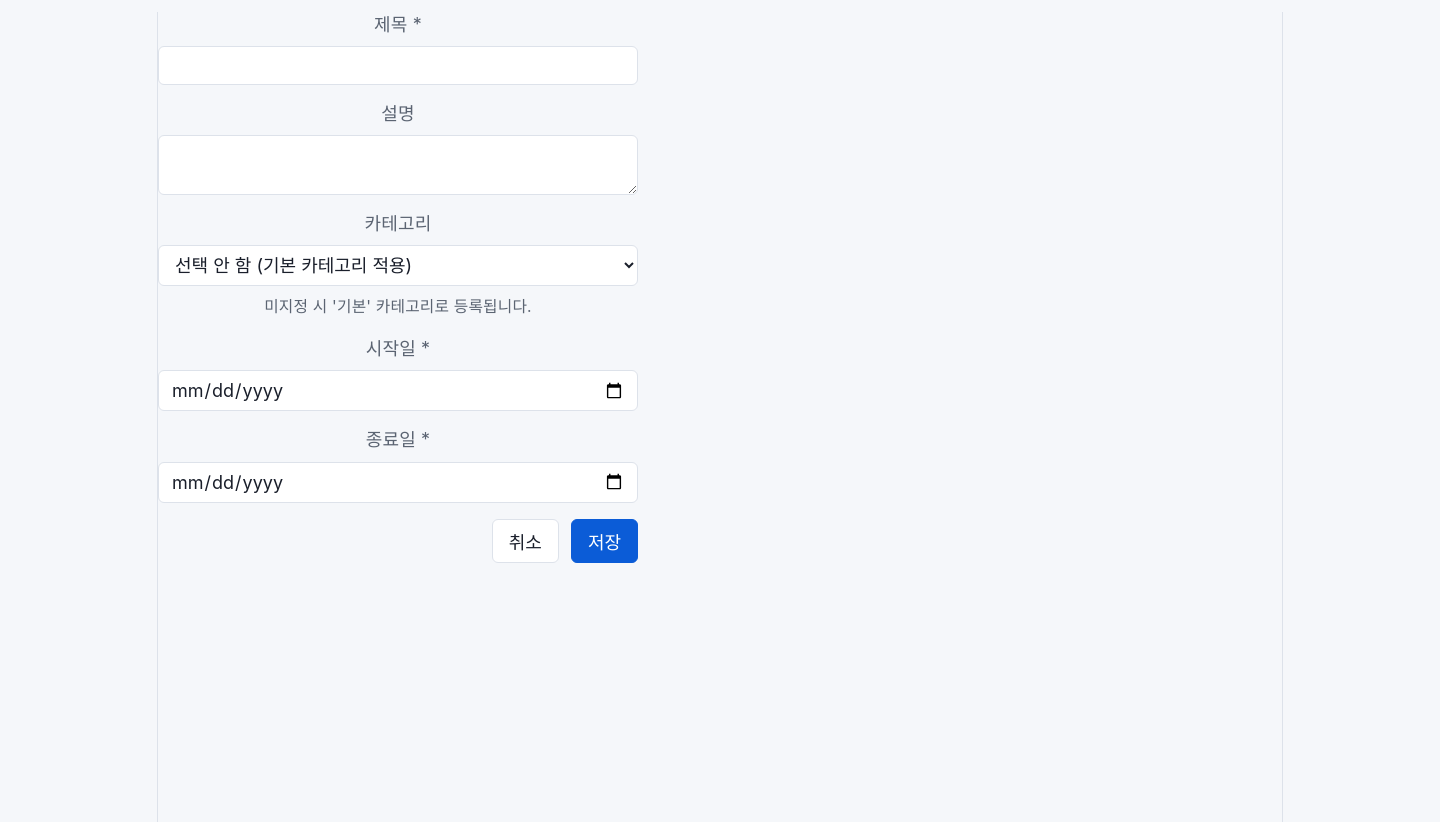
Test: TodoForm › mutation이 실패하면 에러 메시지가 화면에 표시된다
Step 1. Type "새 할일" into the field labelled "제목 *" → (398, 66), box [158,46,638,85]
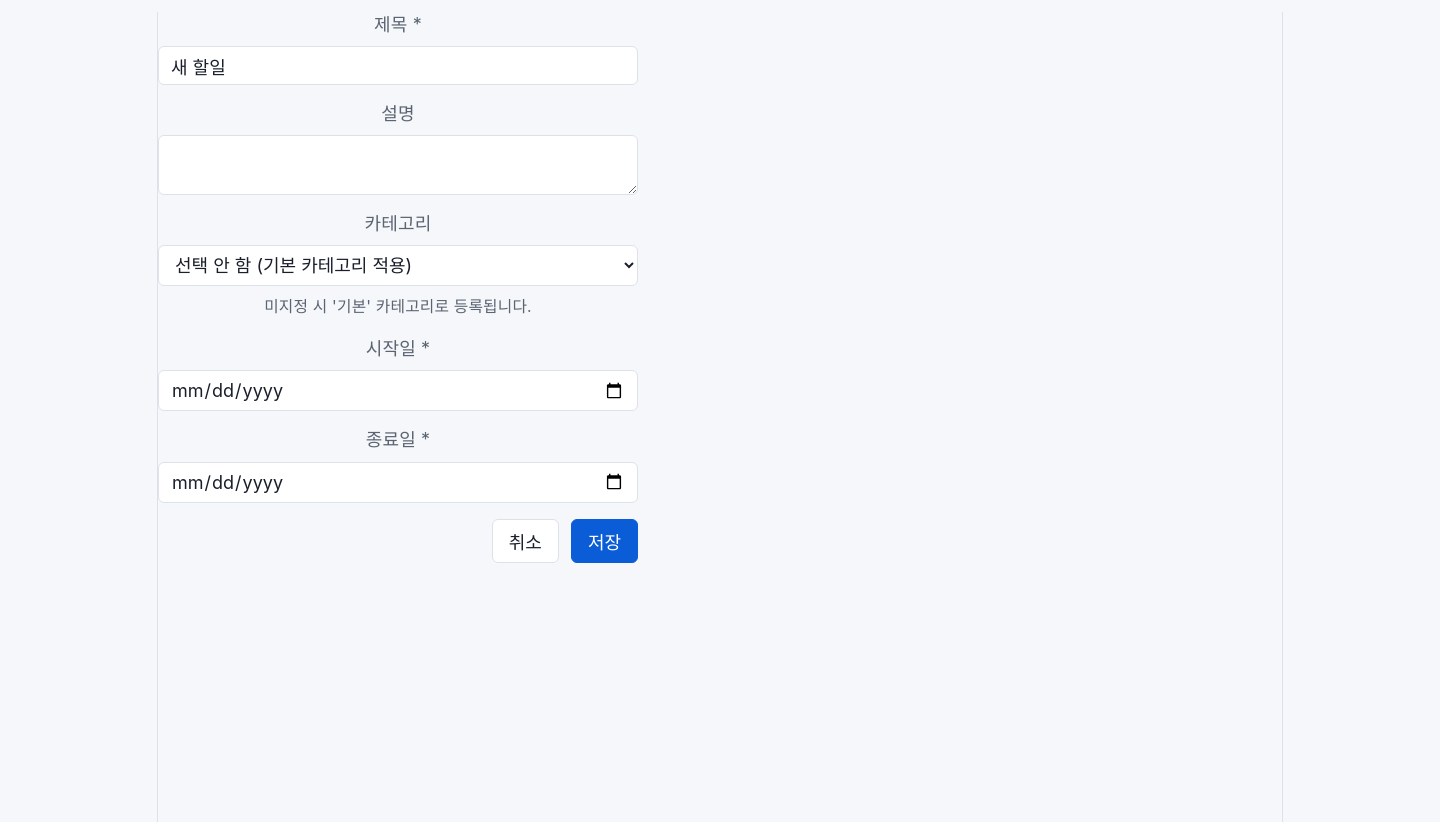
Step 2. Type "2026-08-27" into the date field labelled "시작일 *" → (398, 391), box [158,370,638,412]
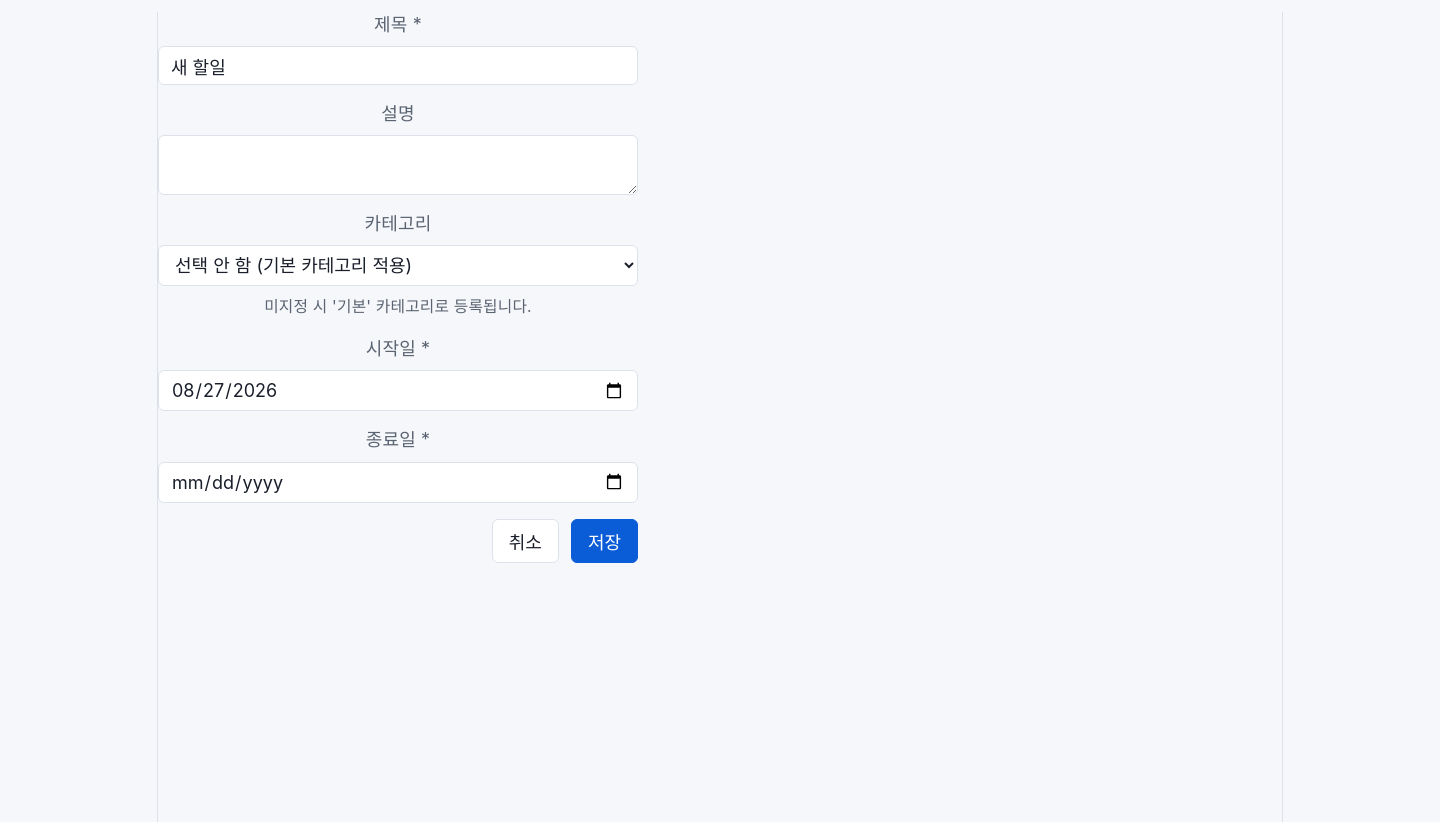
Step 3. Type "2026-08-28" into the date field labelled "종료일 *" → (398, 482), box [158,462,638,503]
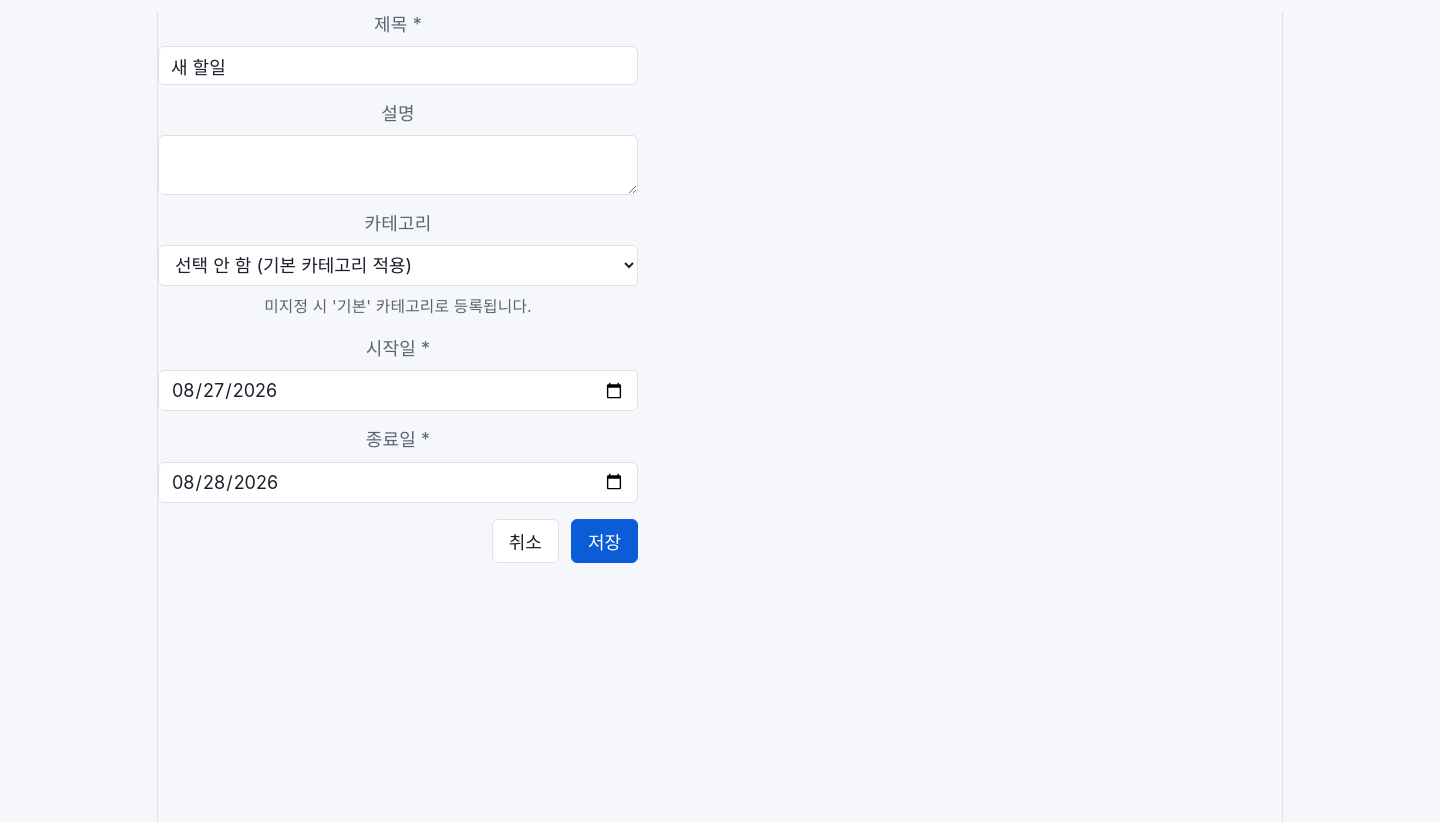
Step 4. Click the button "저장" → click(604, 541), box [571,519,638,563]
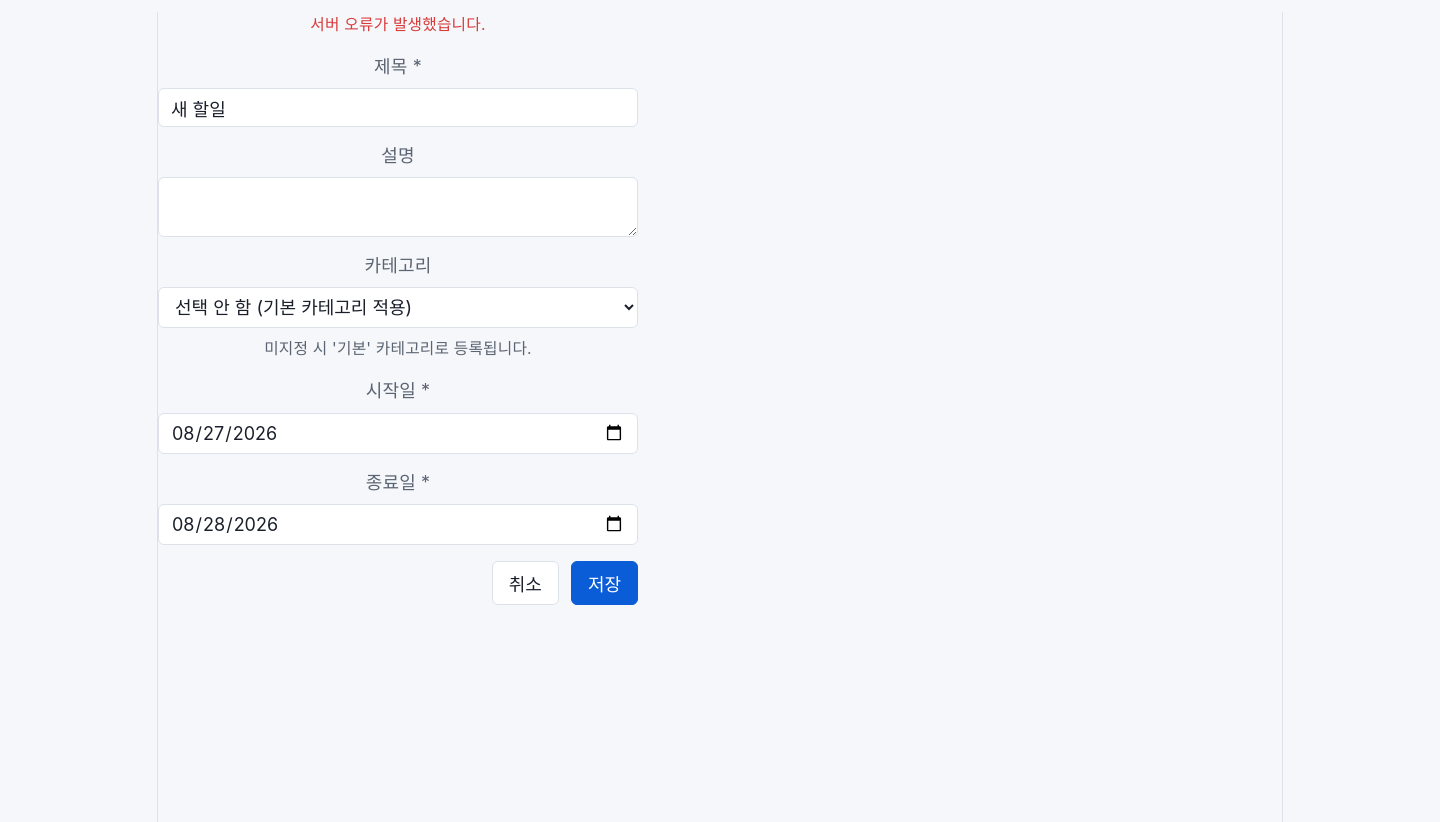
Check: the text "서버 오류가 발생했습니다." is shown, box [310,15,486,34]
